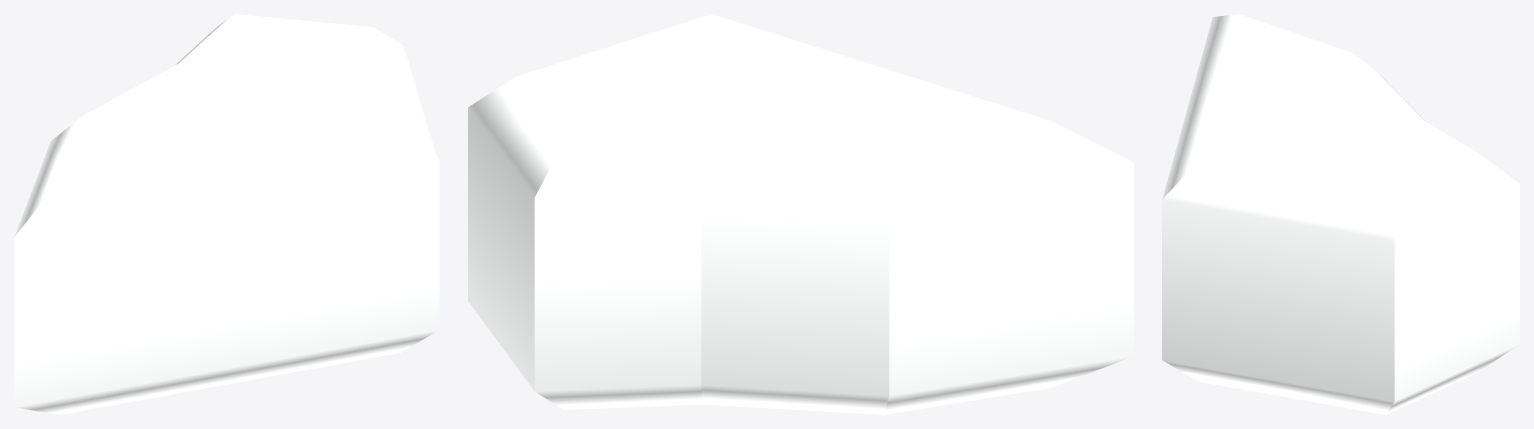
Rendered from ice_floe_small_003.glb.
3 renders of one model, left to right at view 1: azimuth 30°, elevation 25°; view 2: azimuth 150°, elevation 25°; view 3: azimuth 270°, elevation 25°, orthographic. The views are drawn at different scales.
Parts seen in each view (by area): view 1: ice_floe_small_003; view 2: ice_floe_small_003; view 3: ice_floe_small_003.
Boxes of the visible parts, box(x1,y1,x2,y2) form: ice_floe_small_003: box(14, 14, 439, 414); ice_floe_small_003: box(468, 14, 1133, 414); ice_floe_small_003: box(1162, 14, 1519, 414).
Bounding box in the file's own units: 1.51 × 0.6962 × 1.02.
1 material, 1 textured.
